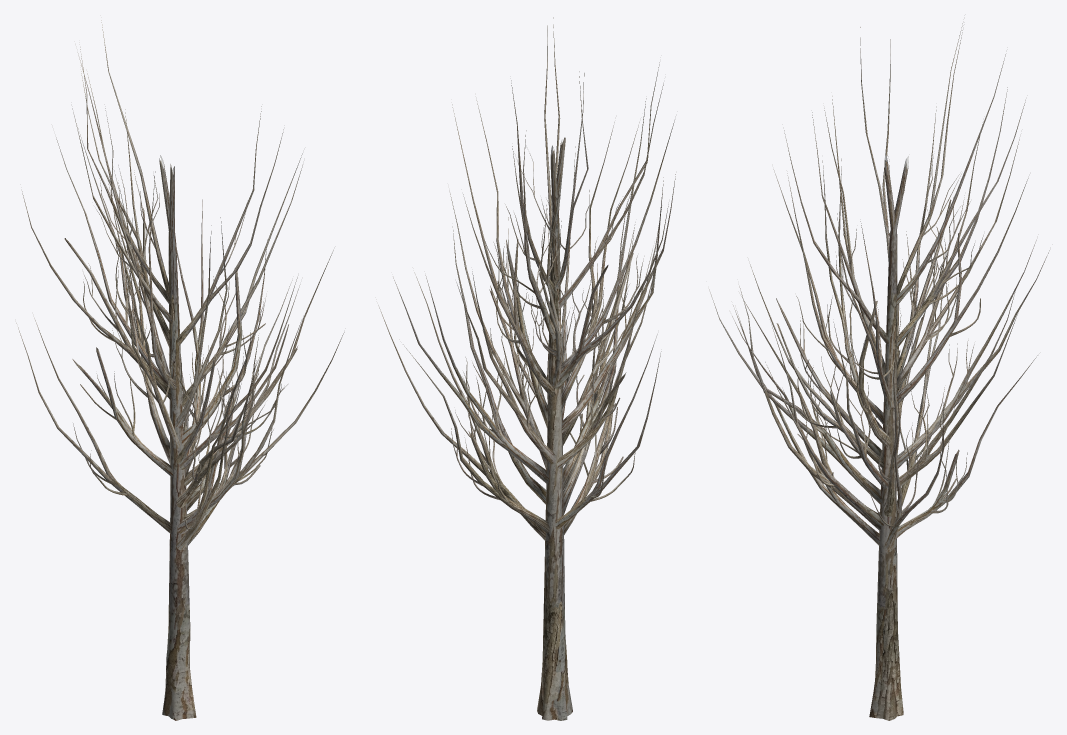
Rendered from fts_01_courtyardtree.fbx.
The picture shows the model from 3 angles, left to right: view 1: azimuth 30°, elevation 25°; view 2: azimuth 150°, elevation 25°; view 3: azimuth 270°, elevation 25°; orthographic projection. The views are drawn at different scales.
Parts seen in each view (by area): view 1: fts_01_courtyardtree_Level_1, fts_01_courtyardtree_Trunk, fts_01_courtyardtree_Level_2; view 2: fts_01_courtyardtree_Level_1, fts_01_courtyardtree_Trunk, fts_01_courtyardtree_Level_2; view 3: fts_01_courtyardtree_Level_1, fts_01_courtyardtree_Trunk, fts_01_courtyardtree_Level_2.
Boxes of the visible parts, x1,y1,x2,y2 form: fts_01_courtyardtree_Level_1: [16, 20, 344, 550]; fts_01_courtyardtree_Trunk: [159, 155, 196, 720]; fts_01_courtyardtree_Level_2: [73, 165, 287, 529]; fts_01_courtyardtree_Level_1: [378, 17, 675, 540]; fts_01_courtyardtree_Trunk: [537, 137, 572, 720]; fts_01_courtyardtree_Level_2: [451, 153, 644, 501]; fts_01_courtyardtree_Level_1: [709, 23, 1049, 551]; fts_01_courtyardtree_Trunk: [869, 155, 908, 720]; fts_01_courtyardtree_Level_2: [783, 156, 983, 526].
Size of the model in its own units: 8.37 by 9.03 by 19.14.
2 materials, 1 textured.
